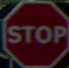Stop: (4, 4, 64, 60)
